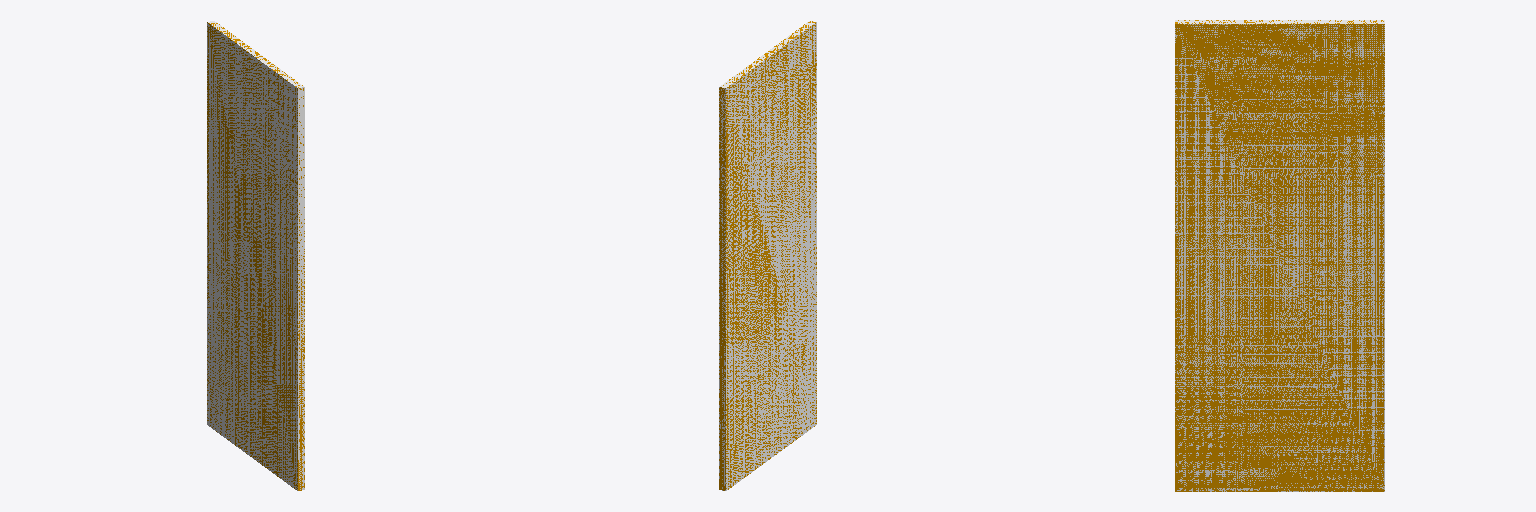
robot.urdf — my_object:
<?xml version="1.0" ?> 
<robot name="my_object" static="true">
  <link name="base_link">
  <inertial>
    <mass value="1.0" />
    <origin xyz="0 0 0.0" />
    <inertia ixx="1.0" ixy="0.0" ixz="0.0" iyy="1.0" iyz="0.0" izz="1.0"/>
  </inertial>
  <visual>
   <origin xyz="0 0 0.0" rpy="0 0 0" />
   <geometry>
     <mesh filename="package://cob_gazebo_objects/Media/models/SRS_divider5.dae"/>
   </geometry>
  </visual>
  <collision>
   <origin xyz="0 0 0.0" rpy="0 0 0" />
   <geometry>
     <mesh filename="package://cob_gazebo_objects/Media/models/SRS_divider5.dae" />
   </geometry>
  </collision>     
  </link>

<gazebo>
	<static>true</static>
</gazebo>

</robot>

--- Render facts (derived) ---
3 views of the same robot in one strip: view 1: azimuth 30°, elevation 25°; view 2: azimuth 150°, elevation 25°; view 3: azimuth 270°, elevation 25° (orthographic).
Robot: my_object — 1 links, 0 joints (none); root link base_link; default pose: all joints at 0.
Links seen in each view (by area): view 1: base_link; view 2: base_link; view 3: base_link.
Boxes of the visible links, left/top/right/bottom form: base_link: left=207, top=21, right=304, bottom=490; base_link: left=719, top=21, right=816, bottom=490; base_link: left=1175, top=20, right=1384, bottom=491.
Bounding box of the posed robot: 0.0011 × 0.0269 × 0.066 m (x, y, z).
1 mesh visuals loaded from 1 distinct referenced files (1 Collada DAE).